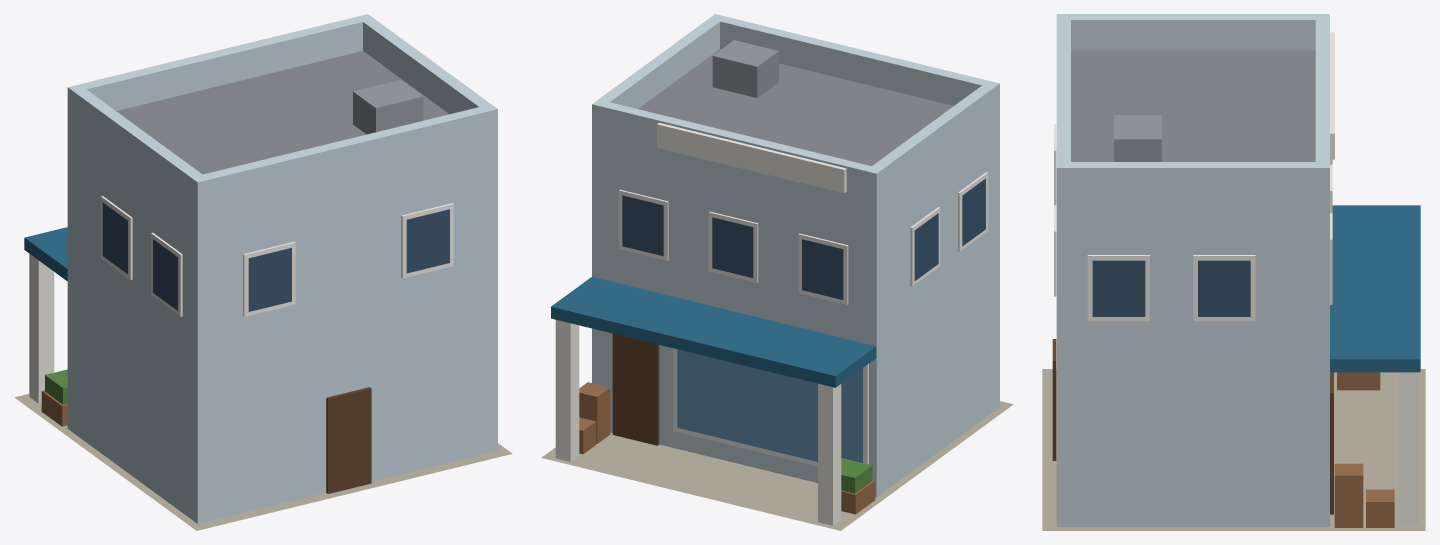
3 views of the same model, side by side, from view 1: azimuth 30°, elevation 25°; view 2: azimuth 150°, elevation 25°; view 3: azimuth 270°, elevation 25° (orthographic). The views are drawn at different scales.
Parts seen in each view (by area): view 1: walls, parapet (×4), roof, window_glass (×4), door, forecourt, window_frame (×4), post, ac_unit, canopy, planter_plants, planter; view 2: walls, parapet (×4), roof, canopy, storefront, forecourt, window_glass (×5), post (×2), sign, door, window_frame (×5), ac_unit (+4 smaller); view 3: walls, roof, parapet (×4), canopy, forecourt, window_glass (×2), crate (×3), post, window_frame (×2), ac_unit, door (×2), planter (+1 smaller).
Boxes of the visible parts, box(x1,y1,x2,y2) form: walls: box(67, 116, 497, 523); parapet (×4): box(67, 14, 497, 211); roof: box(116, 51, 449, 174); window_glass (×4): box(102, 202, 449, 311); door: box(326, 387, 371, 493); forecourt: box(14, 394, 512, 530); window_frame (×4): box(101, 196, 453, 316); post: box(29, 254, 54, 403); ac_unit: box(353, 80, 423, 134); canopy: box(24, 227, 67, 281); planter_plants: box(45, 369, 67, 404); planter: box(41, 390, 67, 426); walls: box(592, 111, 999, 497); parapet (×4): box(592, 14, 999, 200); roof: box(638, 49, 953, 165); canopy: box(551, 277, 876, 387); storefront: box(677, 349, 862, 462); forecourt: box(541, 401, 1013, 530); window_glass (×5): box(622, 178, 985, 299); post (×2): box(555, 320, 841, 525); sign: box(657, 122, 846, 193); door: box(612, 333, 659, 445); window_frame (×5): box(618, 172, 987, 304); ac_unit: box(712, 40, 778, 97); walls: box(1056, 198, 1329, 526); roof: box(1071, 50, 1315, 161); parapet (×4): box(1056, 14, 1329, 198); canopy: box(1330, 205, 1420, 372); forecourt: box(1042, 369, 1425, 530); window_glass (×2): box(1092, 260, 1250, 316); crate (×3): box(1334, 463, 1394, 527); post: box(1399, 372, 1418, 524); window_frame (×2): box(1087, 255, 1255, 321); ac_unit: box(1114, 115, 1161, 161); door (×2): box(1052, 339, 1333, 514); planter: box(1337, 372, 1380, 390).
Bounding box in the file's own units: 8 × 8.4 × 8.
